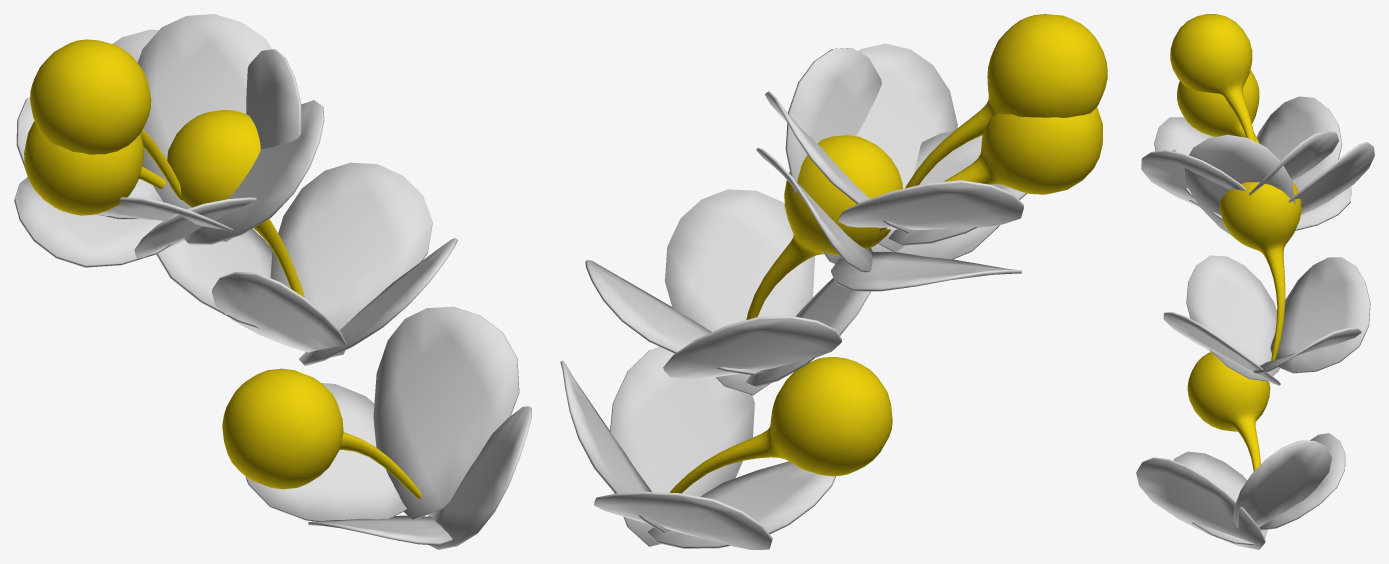
3 renders of one model, left to right at view 1: azimuth 30°, elevation 25°; view 2: azimuth 150°, elevation 25°; view 3: azimuth 270°, elevation 25°, orthographic. The views are drawn at different scales.
Visible parts, largest first — view 1: Plane.003; view 2: Plane.003; view 3: Plane.003.
Part boxes in pixels (<box>): Plane.003: <box>14,14,531,549</box>; Plane.003: <box>560,14,1107,549</box>; Plane.003: <box>1136,14,1374,549</box>.
Size of the model in its own units: 1.1 by 1.23 by 0.651.
